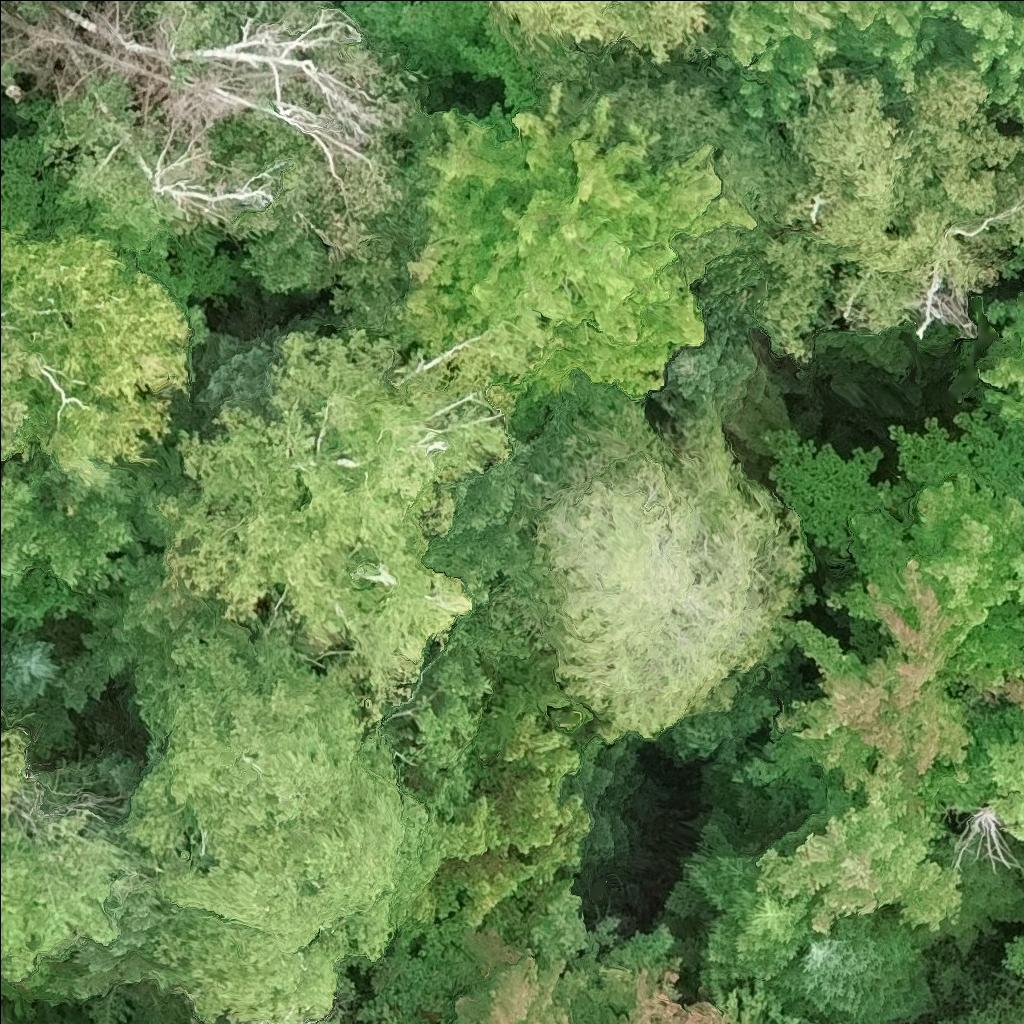crown: (136, 323, 523, 736), (119, 609, 450, 1023), (391, 80, 763, 422), (526, 393, 822, 743), (756, 469, 1023, 805), (750, 54, 1023, 373), (0, 194, 194, 481), (400, 664, 591, 932), (715, 0, 1023, 120), (755, 783, 965, 940), (659, 821, 822, 996), (446, 879, 626, 1023), (589, 922, 819, 1023), (0, 809, 129, 987), (771, 906, 937, 1023), (650, 327, 790, 453), (484, 0, 729, 66), (0, 622, 104, 758), (0, 308, 52, 466), (981, 735, 1023, 846), (994, 301, 1023, 422), (924, 995, 1023, 1023), (0, 725, 25, 823), (990, 83, 1023, 133), (1000, 929, 1023, 992), (1008, 540, 1023, 634), (386, 1014, 417, 1023), (1017, 476, 1023, 511), (0, 704, 5, 717), (833, 1018, 846, 1023), (1022, 521, 1023, 530), (864, 1022, 868, 1023), (1022, 1005, 1023, 1006), (1023, 654, 1023, 668)
